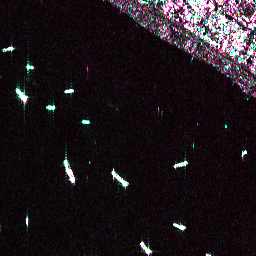ship: (60, 157, 78, 186), (109, 169, 130, 188), (13, 86, 30, 104), (136, 237, 153, 255), (170, 220, 188, 232), (171, 159, 190, 170), (1, 45, 16, 53), (239, 148, 248, 158), (63, 87, 74, 95), (45, 104, 56, 111), (80, 118, 91, 125), (25, 63, 34, 71)
